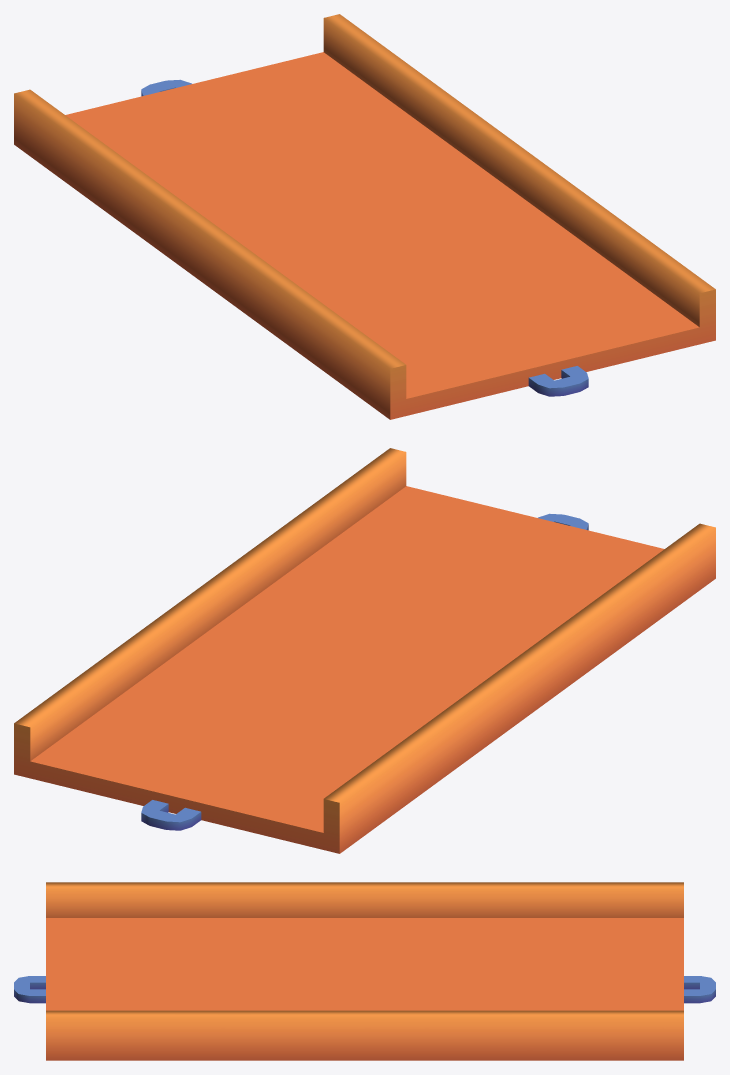
Rendered from kenney-toy-car-track-wide-straight.glb.
3 views of the same model, one above another, from view 1: azimuth 30°, elevation 25°; view 2: azimuth 150°, elevation 25°; view 3: azimuth 270°, elevation 25° (orthographic). The views are drawn at different scales.
Parts seen in each view (by area): view 1: track-wide-straight; view 2: track-wide-straight; view 3: track-wide-straight.
Part boxes in pixels (x1=…): track-wide-straight: x1=14, y1=14, x2=715, y2=419; track-wide-straight: x1=14, y1=448, x2=715, y2=853; track-wide-straight: x1=14, y1=882, x2=715, y2=1060.
Size of the model in its own units: 2 by 0.2997 by 4.4.
1 material, 1 textured.
